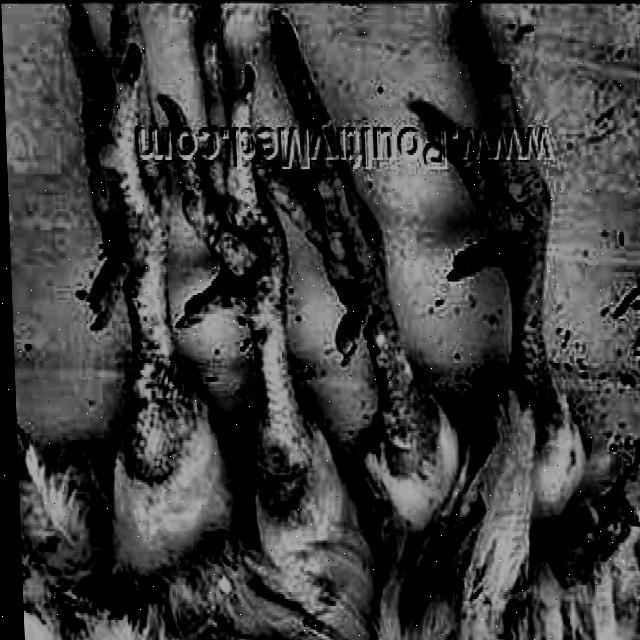Infectios bronchitis: (281, 35, 564, 483), (49, 17, 304, 504)
